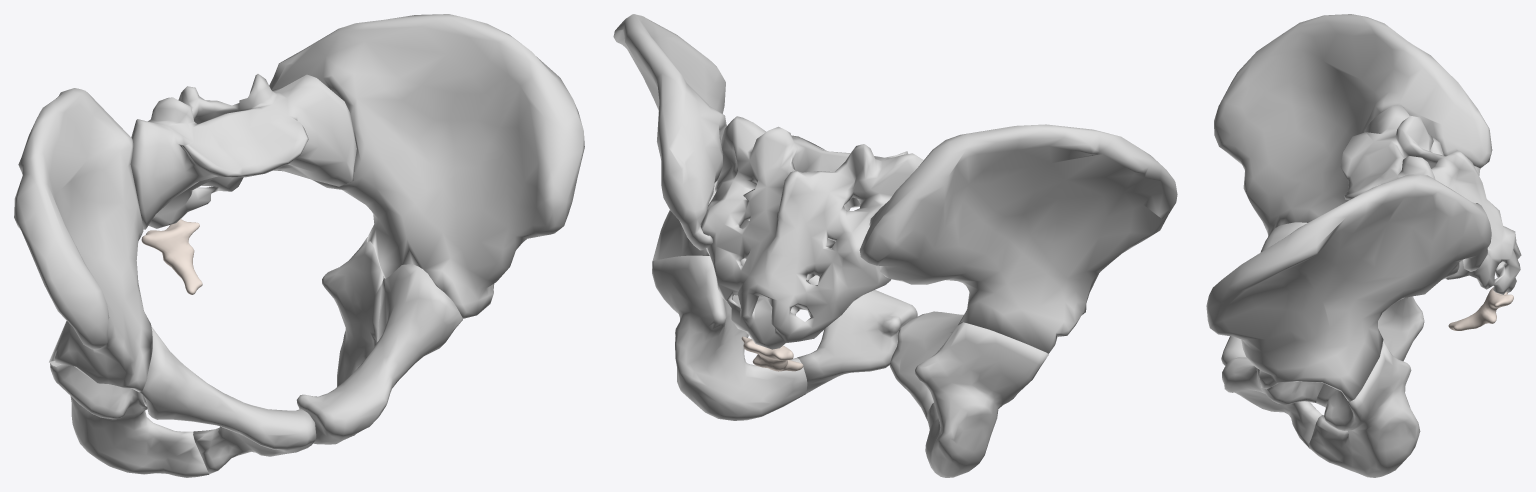
Rendered from skeleton.glb.
3 renders of one model, left to right at view 1: azimuth 30°, elevation 25°; view 2: azimuth 150°, elevation 25°; view 3: azimuth 270°, elevation 25°, orthographic. The views are drawn at different scales.
Visible parts, largest first — view 1: HRA-VH_F_ilium_compact_bone_L, HRA-VH_F_ilium_compact_bone_R, HRA-VH_F_sacrum, HRA-VH_F_pubis_compact_bone_L, HRA-VH_F_pubis_compact_bone_R, HRA-VH_F_ischium_compact_bone_R, HRA-VH_F_ischium_compact_bone_L, HRA-VH_F_coccyx; view 2: HRA-VH_F_ilium_compact_bone_R, HRA-VH_F_sacrum, HRA-VH_F_ilium_compact_bone_L, HRA-VH_F_ischium_compact_bone_L, HRA-VH_F_ischium_compact_bone_R, HRA-VH_F_pubis_compact_bone_L, HRA-VH_F_pubis_compact_bone_R, HRA-VH_F_coccyx; view 3: HRA-VH_F_ilium_compact_bone_L, HRA-VH_F_ilium_compact_bone_R, HRA-VH_F_sacrum, HRA-VH_F_ischium_compact_bone_L, HRA-VH_F_pubis_compact_bone_L, HRA-VH_F_ischium_compact_bone_R, HRA-VH_F_coccyx, HRA-VH_F_pubis_compact_bone_R.
Boxes of the visible parts, <box> form: HRA-VH_F_ilium_compact_bone_L: <box>269,14,584,318</box>; HRA-VH_F_ilium_compact_bone_R: <box>14,88,152,392</box>; HRA-VH_F_sacrum: <box>130,74,356,229</box>; HRA-VH_F_pubis_compact_bone_L: <box>296,264,462,444</box>; HRA-VH_F_pubis_compact_bone_R: <box>140,326,316,474</box>; HRA-VH_F_ischium_compact_bone_R: <box>50,363,209,477</box>; HRA-VH_F_ischium_compact_bone_L: <box>322,237,384,436</box>; HRA-VH_F_coccyx: <box>141,219,202,294</box>; HRA-VH_F_ilium_compact_bone_R: <box>859,124,1177,353</box>; HRA-VH_F_sacrum: <box>700,116,923,349</box>; HRA-VH_F_ilium_compact_bone_L: <box>613,14,745,260</box>; HRA-VH_F_ischium_compact_bone_L: <box>652,255,807,420</box>; HRA-VH_F_ischium_compact_bone_R: <box>915,322,1048,477</box>; HRA-VH_F_pubis_compact_bone_L: <box>741,258,917,393</box>; HRA-VH_F_pubis_compact_bone_R: <box>889,311,963,420</box>; HRA-VH_F_coccyx: <box>741,336,803,371</box>; HRA-VH_F_ilium_compact_bone_L: <box>1206,174,1491,401</box>; HRA-VH_F_ilium_compact_bone_R: <box>1214,14,1492,236</box>; HRA-VH_F_sacrum: <box>1340,105,1521,294</box>; HRA-VH_F_ischium_compact_bone_L: <box>1309,341,1420,477</box>; HRA-VH_F_pubis_compact_bone_L: <box>1222,357,1323,448</box>; HRA-VH_F_ischium_compact_bone_R: <box>1378,296,1424,361</box>; HRA-VH_F_coccyx: <box>1448,287,1513,330</box>; HRA-VH_F_pubis_compact_bone_R: <box>1221,222,1307,365</box>.
Bounding box in the file's own units: 0.6835 × 0.4568 × 0.3955.
